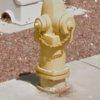Hydrant: (28, 5, 90, 96)
